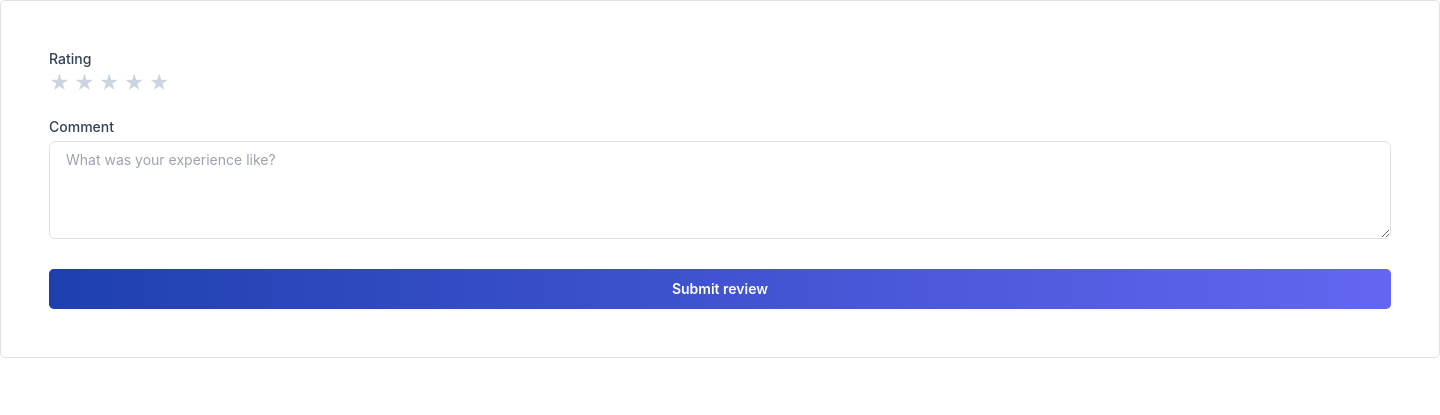
ReviewForm › shows validation errors and prevents submit when rating is missing or comment is too short
Click the button "Submit review": click(720, 289) [49, 269, 1391, 309]
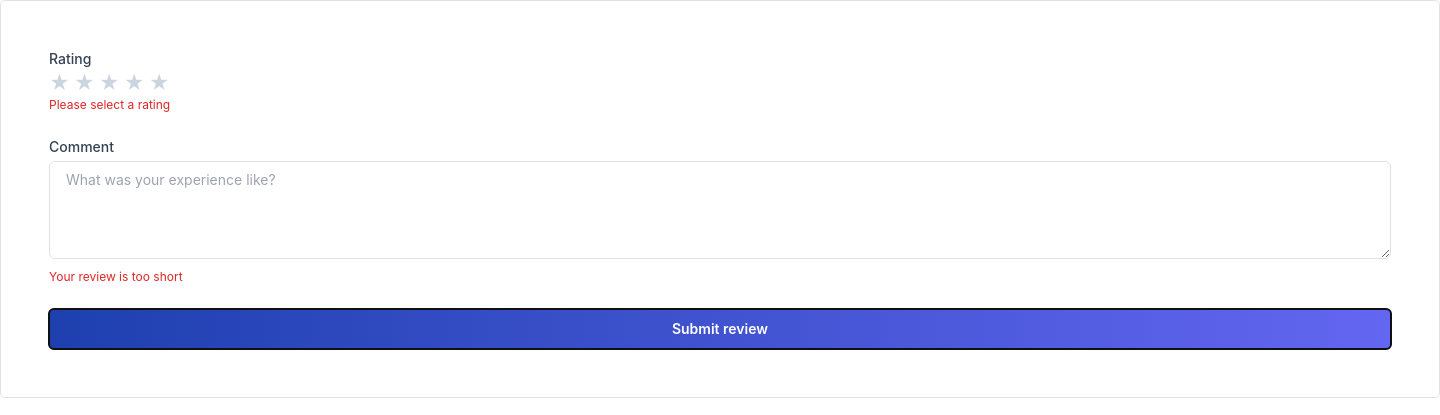
Check: the text "Please select a rating" is shown, box [49, 97, 170, 112]
Check: the text "Your review is too short" is shown, box [49, 269, 183, 284]
